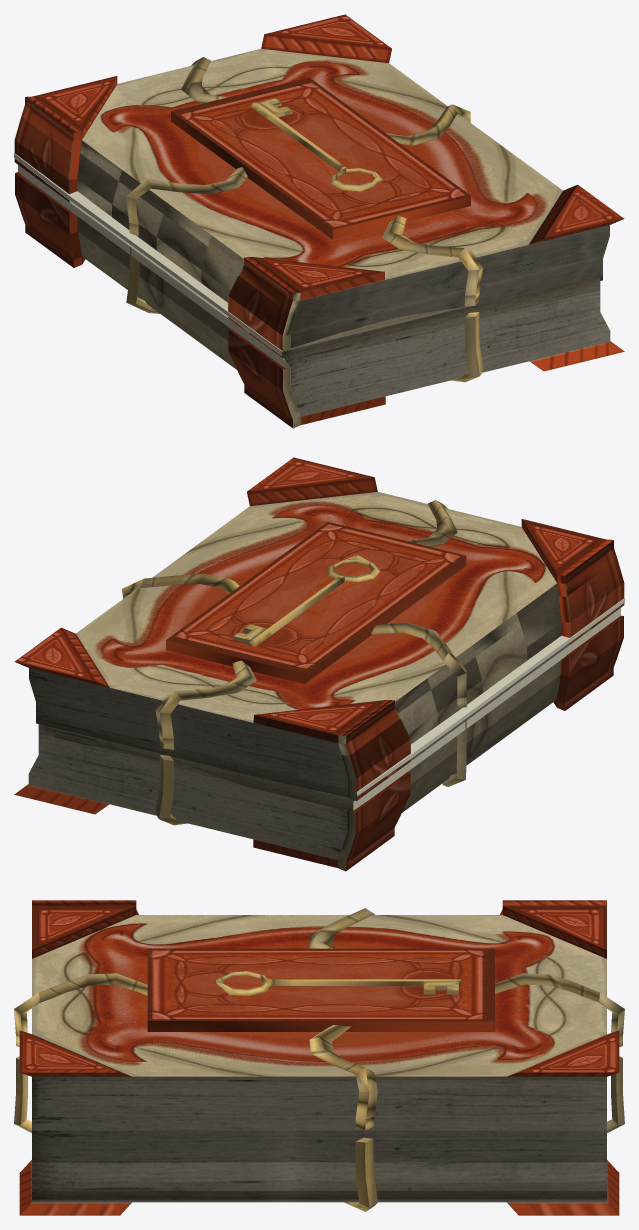
Rendered from journal_open.FBX.
The picture shows the model from 3 angles, top to bottom: view 1: azimuth 30°, elevation 25°; view 2: azimuth 150°, elevation 25°; view 3: azimuth 270°, elevation 25°; orthographic projection. The views are drawn at different scales.
Visible parts, largest first — view 1: first_half_book, second_half_book; view 2: first_half_book, second_half_book; view 3: first_half_book, second_half_book.
Boxes of the visible parts, box(x1,y1,x2,y2) form: first_half_book: box(14, 14, 624, 368); second_half_book: box(14, 153, 624, 428); first_half_book: box(14, 457, 624, 811); second_half_book: box(14, 598, 624, 871); first_half_book: box(14, 900, 624, 1130); second_half_book: box(14, 1056, 624, 1215).
Bounding box in the file's own units: 11.2 × 4.41 × 15.93.
